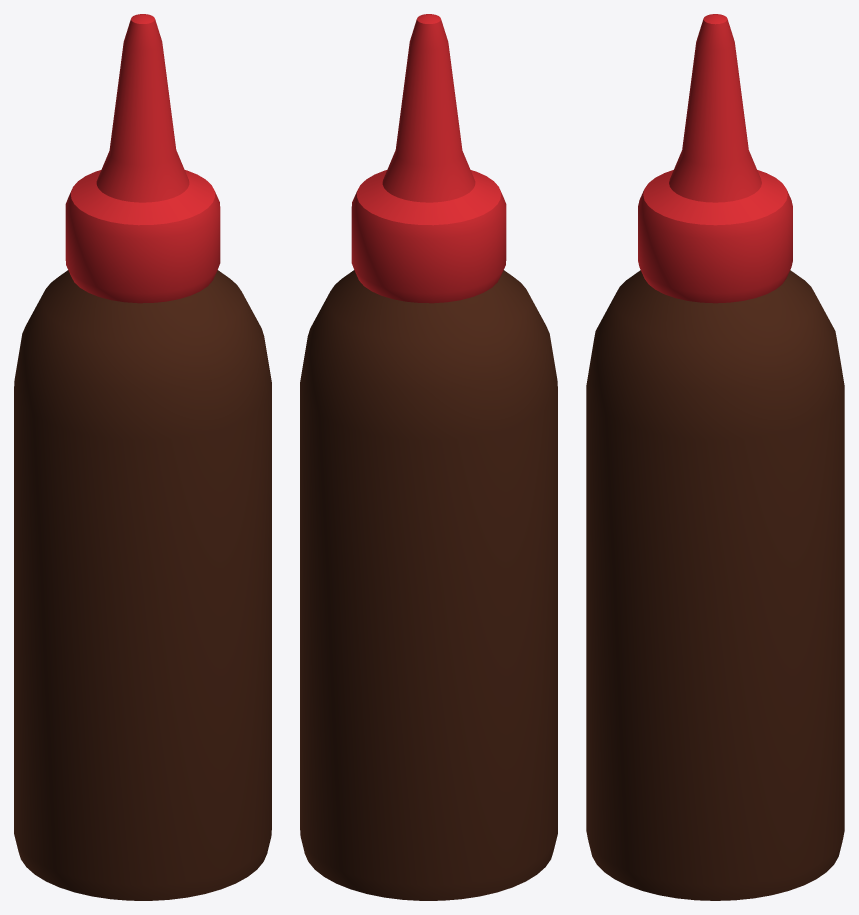
The model's file is Takoyaki_Sauce_Bottle.fbx.
3 views of the same model, side by side, from view 1: azimuth 30°, elevation 25°; view 2: azimuth 150°, elevation 25°; view 3: azimuth 270°, elevation 25° (orthographic).
Visible parts, largest first — view 1: Takoyaki_Sauce_Bottle; view 2: Takoyaki_Sauce_Bottle; view 3: Takoyaki_Sauce_Bottle.
Part boxes in pixels (x1,y1,x2,y2): Takoyaki_Sauce_Bottle: (14, 14, 271, 900); Takoyaki_Sauce_Bottle: (300, 14, 557, 900); Takoyaki_Sauce_Bottle: (586, 14, 844, 900).
Size of the model in its own units: 0.06 by 0.215 by 0.06.
